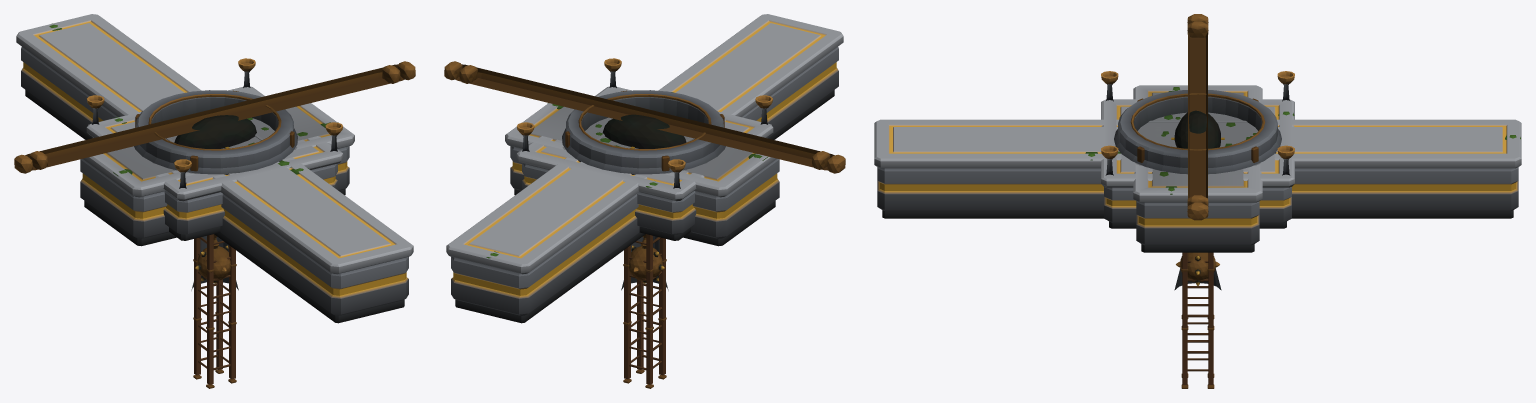
Rendered from temple-1-B9dmPueY.glb.
The picture shows the model from 3 angles, left to right: view 1: azimuth 30°, elevation 25°; view 2: azimuth 150°, elevation 25°; view 3: azimuth 270°, elevation 25°; orthographic projection.
Parts seen in each view (by area): view 1: block_6x2x40#0, block_16x2x8#0, pad_12x2x12#0, geyserVent_8#0, mount_13.8#0, truss_16#0, boulder_6x3#0, mount_12.7#0, blade_3x10x1#0; view 2: block_6x2x40#0, block_16x2x8#0, pad_12x2x12#0, geyserVent_8#0, mount_13.8#0, truss_16#0, boulder_6x3#0, mount_12.7#0, blade_3x10x1#0; view 3: block_6x2x40#0, block_16x2x8#0, pad_12x2x12#0, geyserVent_8#0, mount_13.8#0, truss_16#0, block_8x2x7#0, boulder_6x3#0, blade_3x10x1#0, block_8x2x8#0, mount_12.7#0.
Part boxes in pixels (x1=…): block_6x2x40#0: x1=16, y1=14, x2=413, y2=323; block_16x2x8#0: x1=80, y1=103, x2=354, y2=246; pad_12x2x12#0: x1=86, y1=58, x2=343, y2=240; geyserVent_8#0: x1=134, y1=90, x2=297, y2=174; mount_13.8#0: x1=14, y1=61, x2=415, y2=173; truss_16#0: x1=193, y1=234, x2=236, y2=388; boulder_6x3#0: x1=174, y1=115, x2=256, y2=148; mount_12.7#0: x1=29, y1=65, x2=400, y2=169; blade_3x10x1#0: x1=195, y1=234, x2=230, y2=283; block_6x2x40#0: x1=446, y1=14, x2=843, y2=323; block_16x2x8#0: x1=505, y1=103, x2=779, y2=246; pad_12x2x12#0: x1=516, y1=58, x2=773, y2=240; geyserVent_8#0: x1=562, y1=90, x2=725, y2=174; mount_13.8#0: x1=444, y1=61, x2=845, y2=173; truss_16#0: x1=623, y1=234, x2=666, y2=388; boulder_6x3#0: x1=602, y1=114, x2=686, y2=148; mount_12.7#0: x1=459, y1=65, x2=830, y2=169; blade_3x10x1#0: x1=629, y1=234, x2=664, y2=283; block_6x2x40#0: x1=874, y1=119, x2=1521, y2=218; block_16x2x8#0: x1=1133, y1=85, x2=1262, y2=252; pad_12x2x12#0: x1=1101, y1=71, x2=1294, y2=228; geyserVent_8#0: x1=1114, y1=90, x2=1281, y2=174; mount_13.8#0: x1=1187, y1=14, x2=1208, y2=220; truss_16#0: x1=1181, y1=252, x2=1214, y2=388; block_8x2x7#0: x1=1143, y1=113, x2=1252, y2=147; boulder_6x3#0: x1=1174, y1=110, x2=1220, y2=148; blade_3x10x1#0: x1=1176, y1=252, x2=1219, y2=285; block_8x2x8#0: x1=1135, y1=112, x2=1260, y2=165; mount_12.7#0: x1=1187, y1=21, x2=1208, y2=206.
Bounding box in the file's own units: 28.5 × 18.58 × 40.
